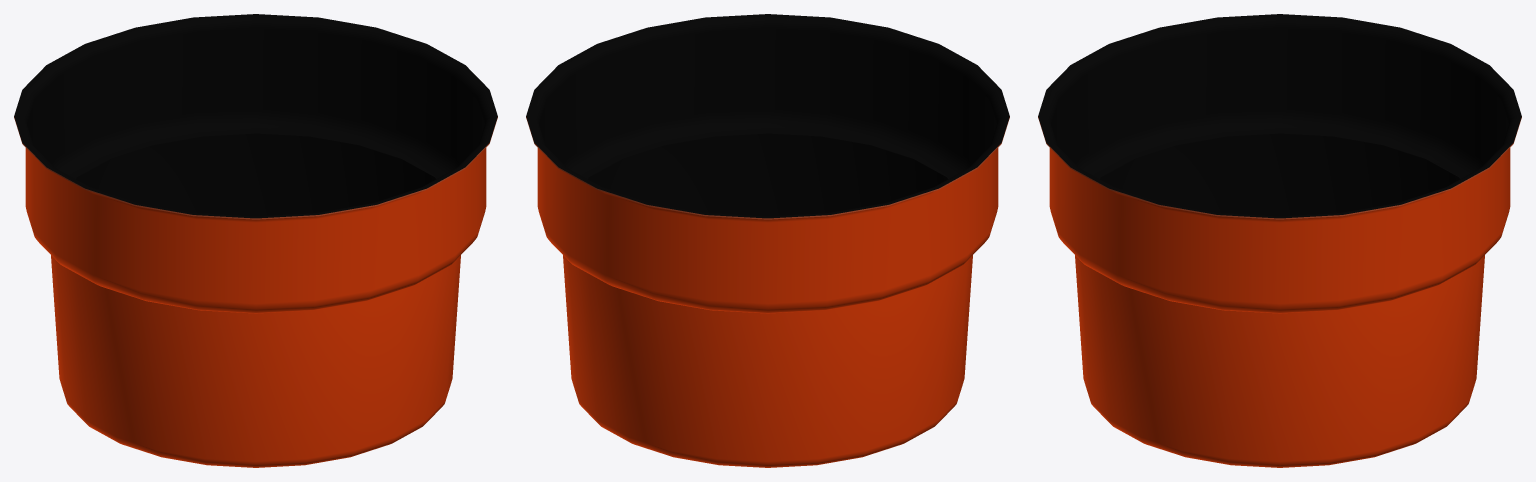
The model's file is pot_01_origin_gt_7.dae.
3 views of the same model, side by side, from view 1: azimuth 30°, elevation 25°; view 2: azimuth 150°, elevation 25°; view 3: azimuth 270°, elevation 25° (orthographic).
Parts seen in each view (by area): view 1: group_0 (×6); view 2: group_0 (×6); view 3: group_0 (×6).
Part boxes in pixels (x1=…): group_0 (×6): x1=14, y1=14, x2=497, y2=467; group_0 (×6): x1=526, y1=14, x2=1009, y2=467; group_0 (×6): x1=1038, y1=14, x2=1521, y2=467.
Size of the model in its own units: 7.88 by 7.88 by 5.04.
